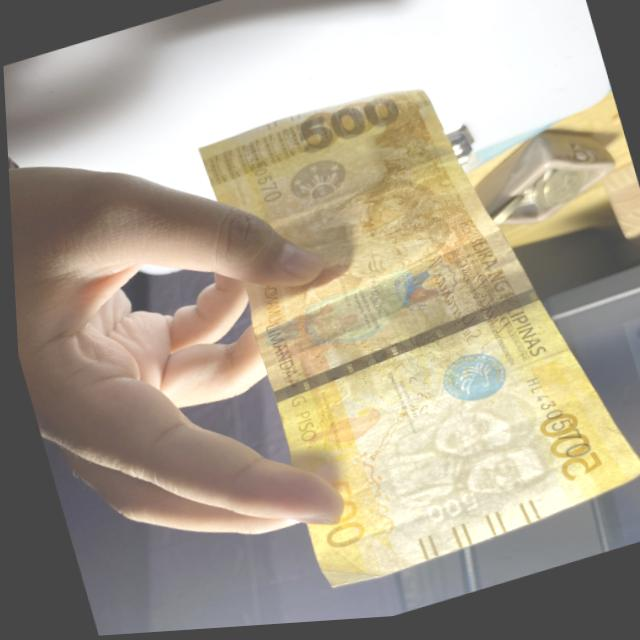500_big_parrot: (242, 260, 430, 376)
500_parrot_watermark: (300, 396, 389, 457)
value_watermark: (411, 491, 479, 539)
watermark: (377, 387, 544, 540)
